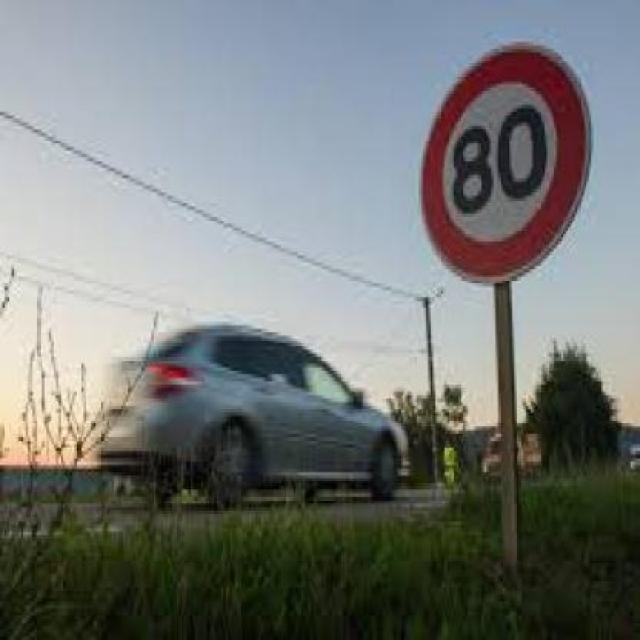forb_speed_over_80: (419, 45, 593, 270)
